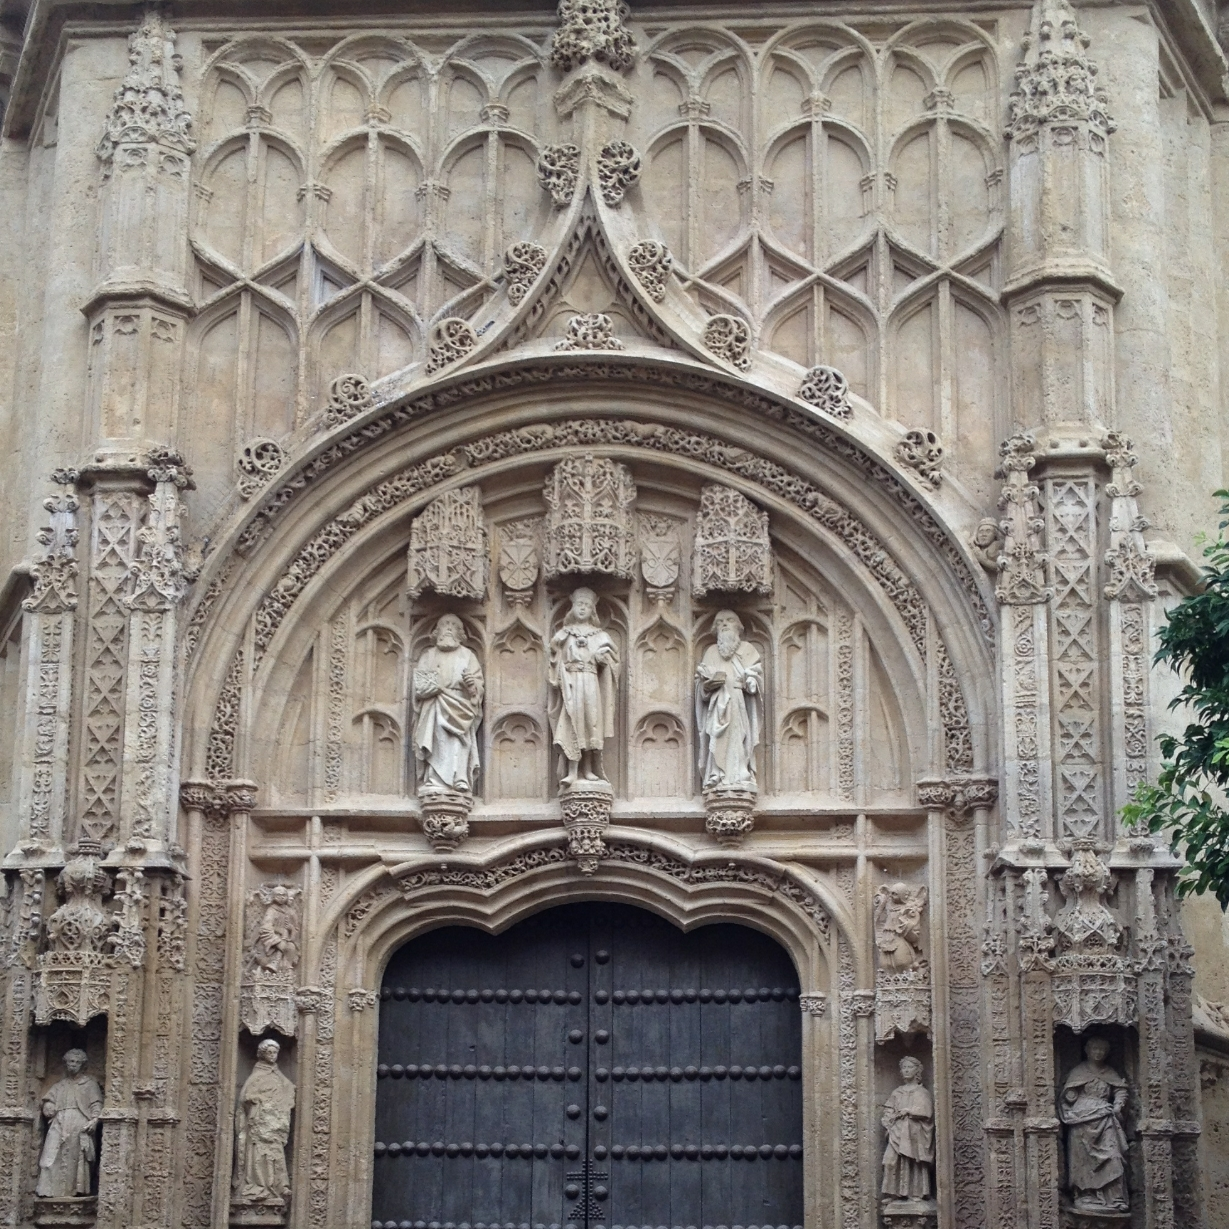arco-conopial: (290, 160, 886, 472)
arco-trilobulado: (320, 827, 856, 990)
